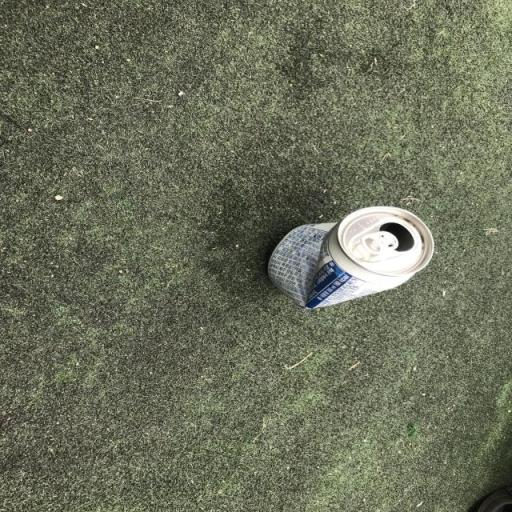metal: (234, 163, 460, 342)
